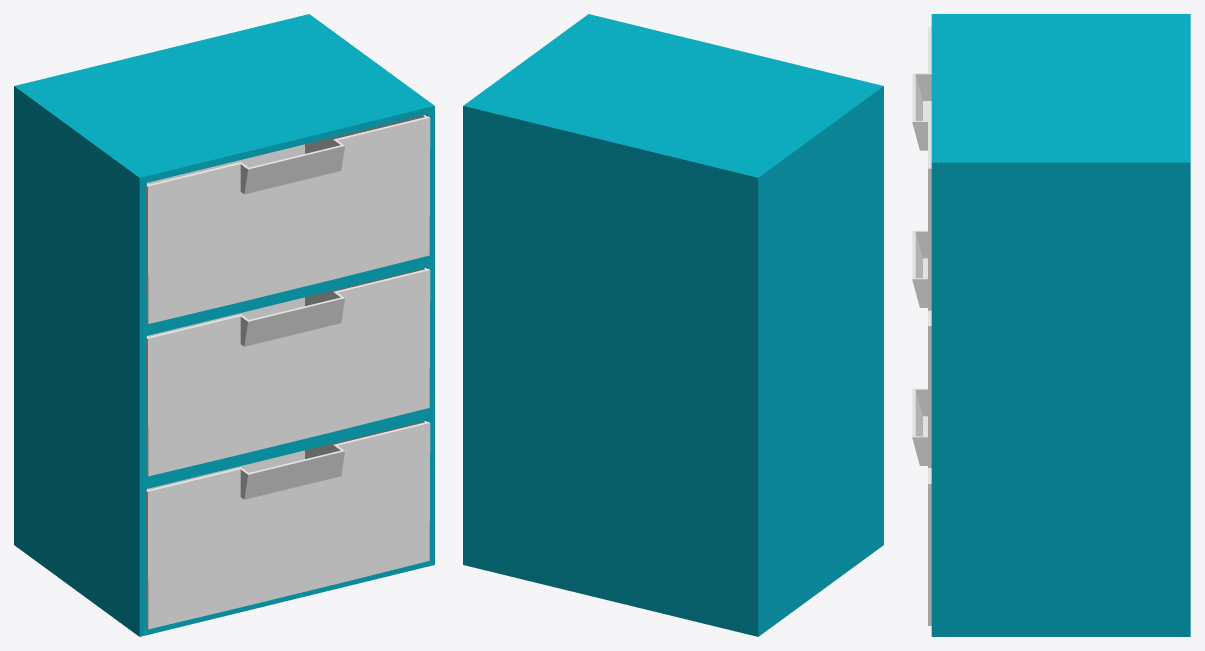
The model's file is Storage_01.obj.
3 views of the same model, side by side, from view 1: azimuth 30°, elevation 25°; view 2: azimuth 150°, elevation 25°; view 3: azimuth 270°, elevation 25° (orthographic). The views are drawn at different scales.
Parts seen in each view (by area): view 1: Storage_Cabinet_01_Cube.034; view 2: Storage_Cabinet_01_Cube.034; view 3: Storage_Cabinet_01_Cube.034.
Boxes of the visible parts, x1,y1,x2,y2 form: Storage_Cabinet_01_Cube.034: (14, 14, 434, 636); Storage_Cabinet_01_Cube.034: (463, 14, 883, 636); Storage_Cabinet_01_Cube.034: (912, 14, 1190, 636).
Size of the model in its own units: 9.94 by 14.77 by 7.86.
